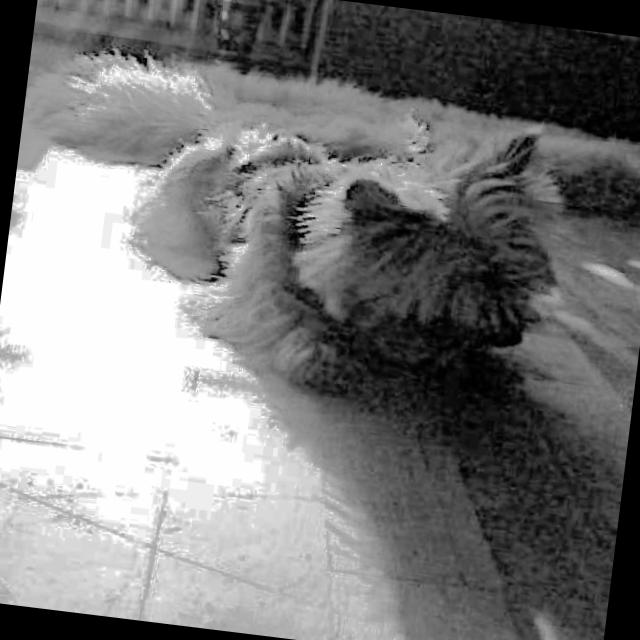Dog: (122, 72, 583, 424)
